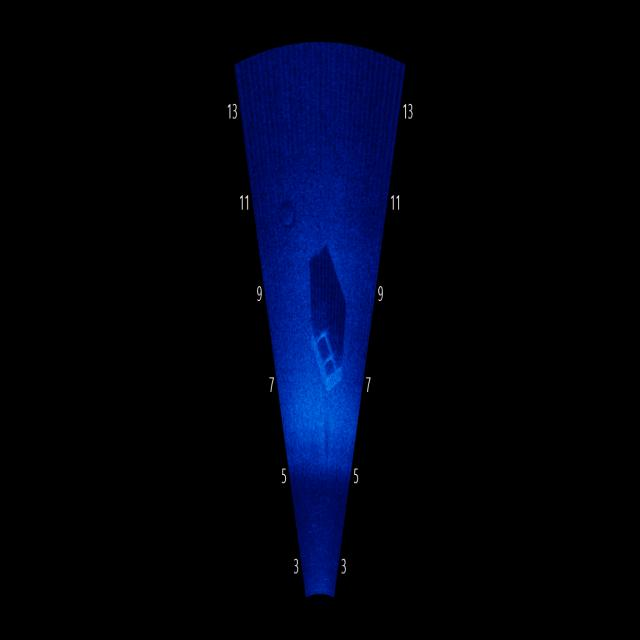square: (303, 304, 349, 395)
